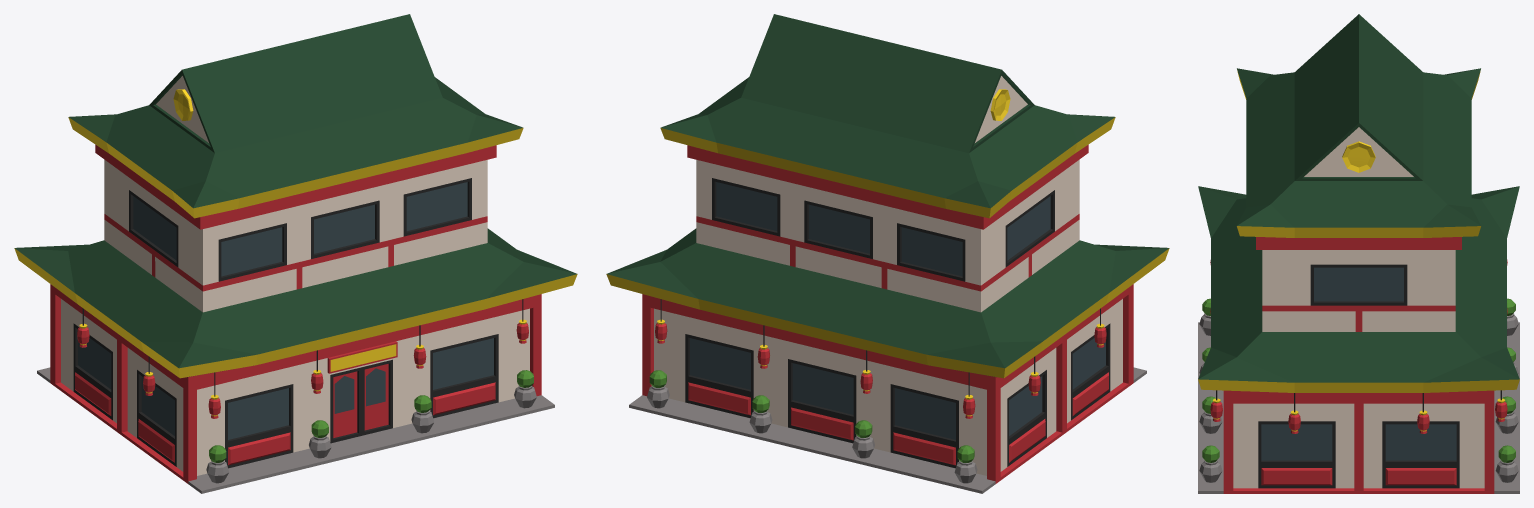
The model's file is buildings_building-restuarant-china.fbx.
3 views of the same model, side by side, from view 1: azimuth 30°, elevation 25°; view 2: azimuth 150°, elevation 25°; view 3: azimuth 270°, elevation 25° (orthographic). The views are drawn at different scales.
Parts seen in each view (by area): view 1: buildings_building_restuarant_china; view 2: buildings_building_restuarant_china; view 3: buildings_building_restuarant_china.
Part boxes in pixels (x1,y1,x2,y2): buildings_building_restuarant_china: (14,14,577,493); buildings_building_restuarant_china: (606,14,1169,493); buildings_building_restuarant_china: (1198,14,1519,493).
Bounding box in the file's own units: 200 × 167 × 143.
